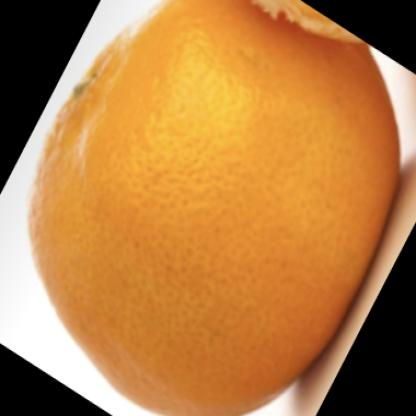fresh: (30, 2, 400, 416)
